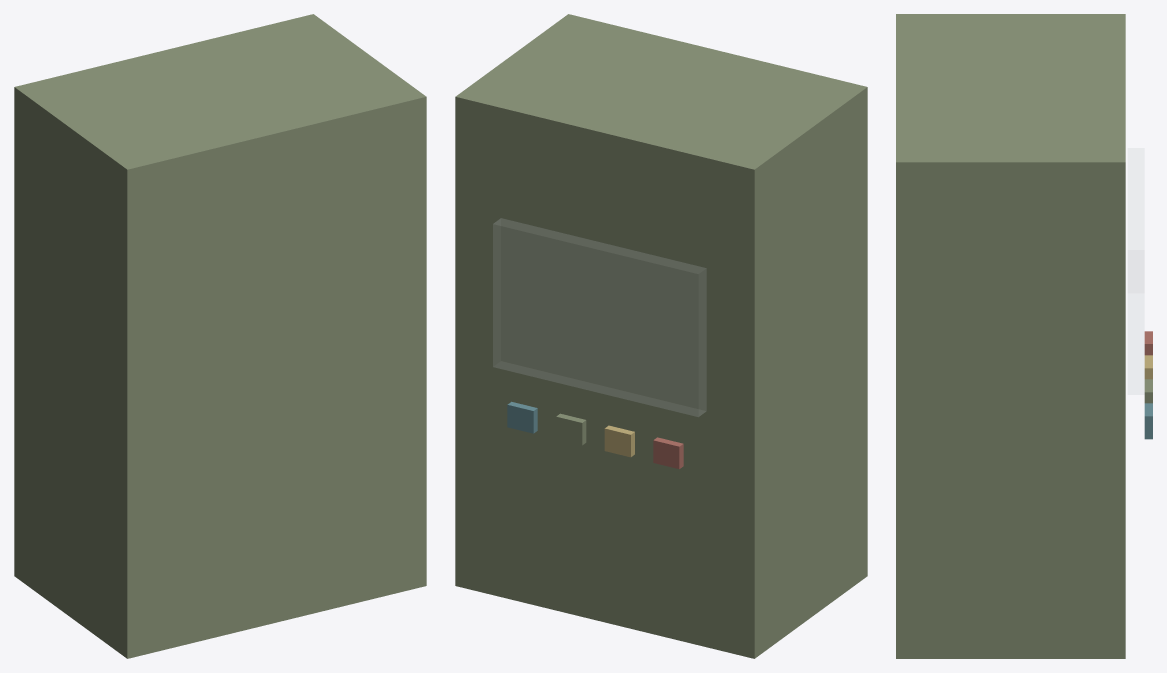
File: iz2_mission_route_board.glb
The picture shows the model from 3 angles, left to right: view 1: azimuth 30°, elevation 25°; view 2: azimuth 150°, elevation 25°; view 3: azimuth 270°, elevation 25°; orthographic projection.
Visible parts, largest first — view 1: body; view 2: body, screen; view 3: body, screen.
Part boxes in pixels (left/top/right/bottom): body: left=14, top=14, right=426, bottom=658; body: left=455, top=14, right=867, bottom=658; screen: left=493, top=218, right=706, bottom=416; body: left=896, top=14, right=1152, bottom=658; screen: left=1128, top=148, right=1144, bottom=394.
Size of the model in its own units: 0.8277 by 1.29 by 0.6058.
